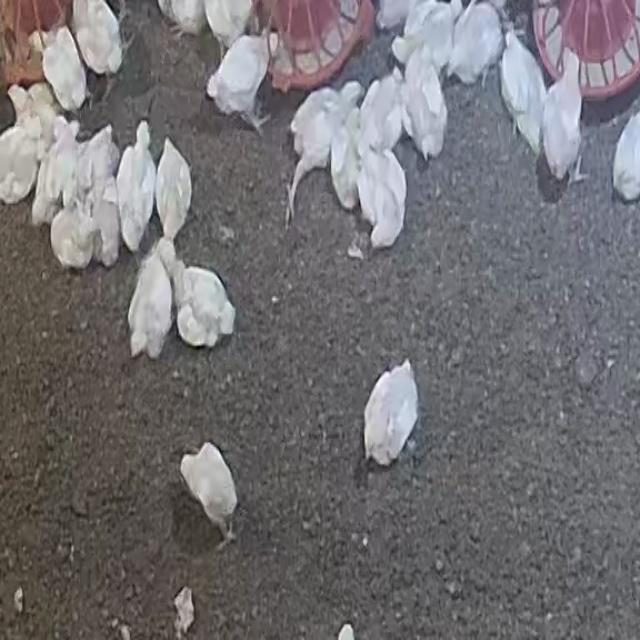chicken: (285, 82, 355, 228), (208, 30, 280, 135), (75, 124, 122, 262), (364, 359, 419, 471), (171, 261, 241, 348), (497, 31, 545, 155), (541, 50, 584, 184), (179, 441, 239, 533), (358, 140, 408, 250), (392, 1, 458, 81), (35, 114, 81, 228), (115, 122, 154, 251), (125, 256, 172, 361), (446, 1, 503, 87), (402, 50, 446, 160), (70, 0, 124, 80), (356, 72, 404, 162), (42, 25, 87, 111), (156, 136, 191, 241), (0, 123, 43, 206), (49, 203, 99, 272), (201, 0, 257, 54), (612, 104, 640, 199), (8, 87, 53, 145), (158, 0, 210, 39)
